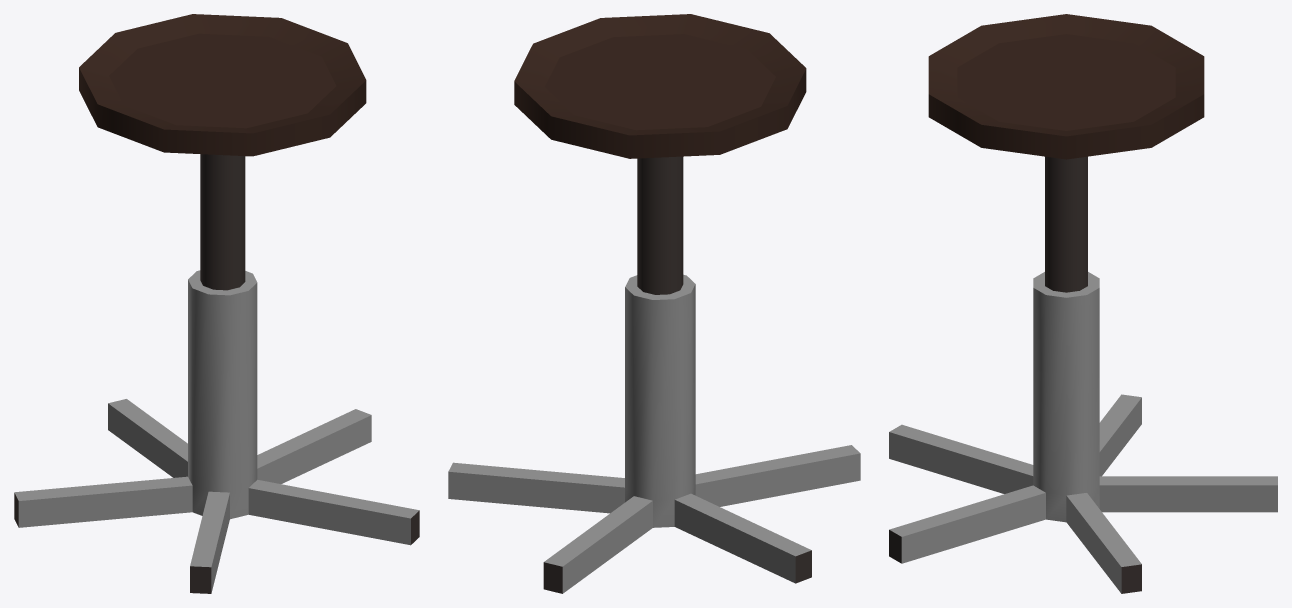
Rendered from chair.FBX.
The picture shows the model from 3 angles, left to right: view 1: azimuth 30°, elevation 25°; view 2: azimuth 150°, elevation 25°; view 3: azimuth 270°, elevation 25°; orthographic projection.
Parts seen in each view (by area): view 1: Cylinder059; view 2: Cylinder059; view 3: Cylinder059.
Boxes of the visible parts, box(x1,y1,x2,y2) form: Cylinder059: box(14, 14, 419, 593); Cylinder059: box(448, 14, 860, 593); Cylinder059: box(889, 14, 1277, 593).
Size of the model in its own units: 20.79 by 24.27 by 19.78.
